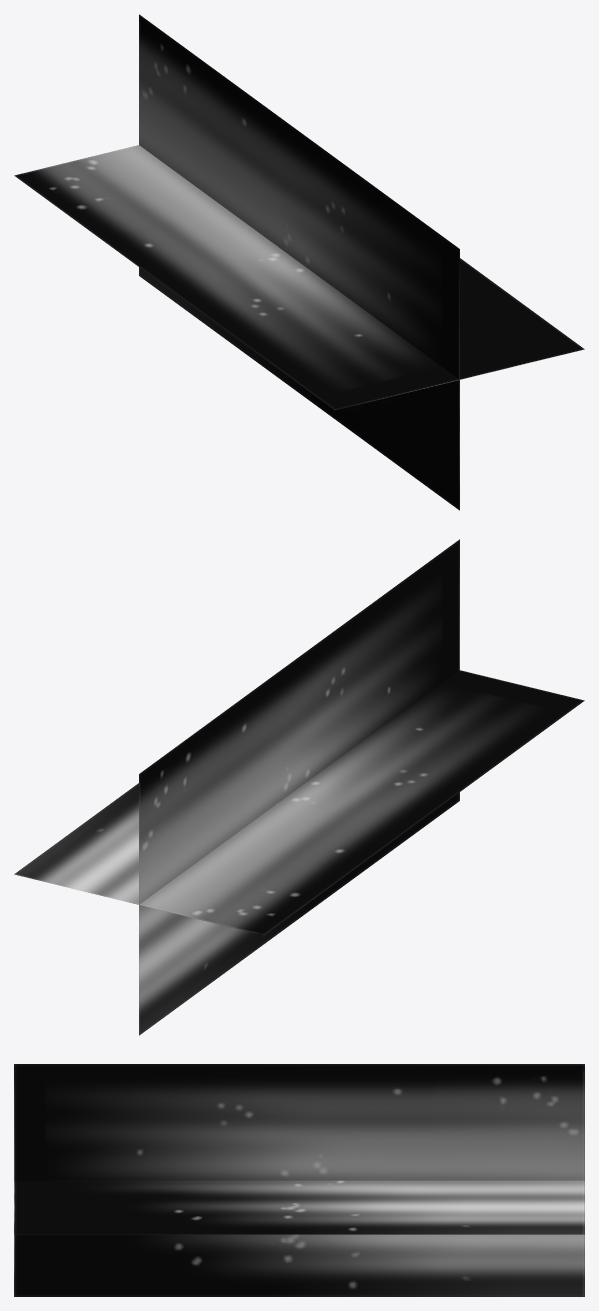
File: shaft.fbx
The picture shows the model from 3 angles, top to bottom: view 1: azimuth 30°, elevation 25°; view 2: azimuth 150°, elevation 25°; view 3: azimuth 270°, elevation 25°; orthographic projection. The views are drawn at different scales.
Visible parts, largest first — view 1: shaft; view 2: shaft; view 3: shaft.
Part boxes in pixels (x1,y1,x2,y2): shaft: (14, 14, 584, 510); shaft: (14, 539, 584, 1035); shaft: (14, 1064, 584, 1296).
Bounding box in the file's own units: 180 × 180 × 400.
